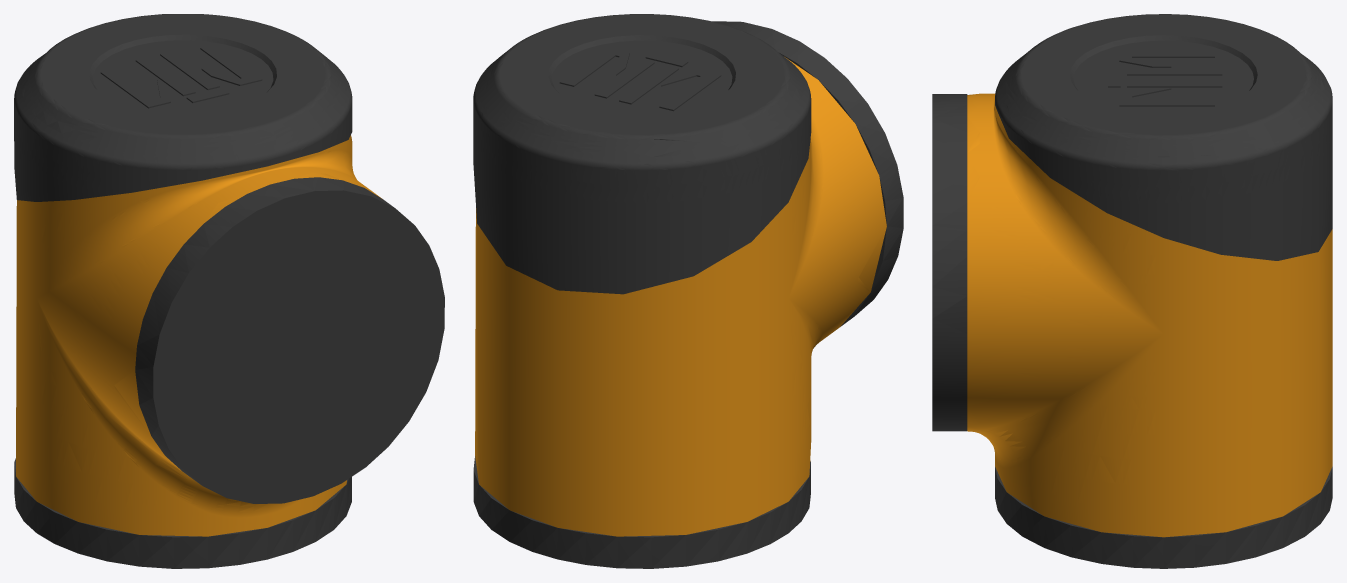
The model's file is shoulder_link.dae.
3 views of the same model, side by side, from view 1: azimuth 30°, elevation 25°; view 2: azimuth 150°, elevation 25°; view 3: azimuth 270°, elevation 25° (orthographic).
Visible parts, largest first — view 1: ??-?, ??-?.001, ??-?.002, ??-?.003; view 2: ??-?.001, ??-?.002, ??-?.003, ??-?; view 3: ??-?.001, ??-?.002, ??-?, ??-?.003.
Boxes of the visible parts, x1,y1,x2,y2 form: ??-?: [135, 177, 444, 503]; ??-?.001: [16, 135, 381, 536]; ??-?.002: [14, 14, 352, 201]; ??-?.003: [14, 458, 351, 568]; ??-?.001: [475, 57, 886, 536]; ??-?.002: [473, 14, 811, 294]; ??-?.003: [473, 456, 810, 568]; ??-?: [712, 21, 903, 326]; ??-?.001: [967, 93, 1332, 537]; ??-?.002: [995, 14, 1332, 260]; ??-?: [932, 94, 967, 431]; ??-?.003: [995, 466, 1332, 568].
Size of the model in its own units: 0.116 by 0.1375 by 0.1602.
